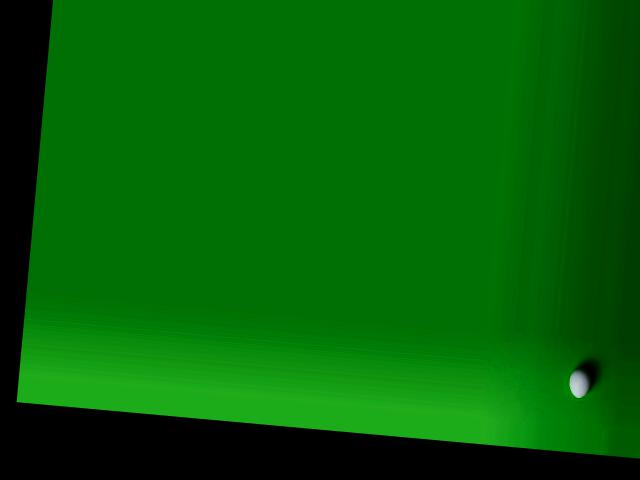egg: (568, 366, 592, 398)
